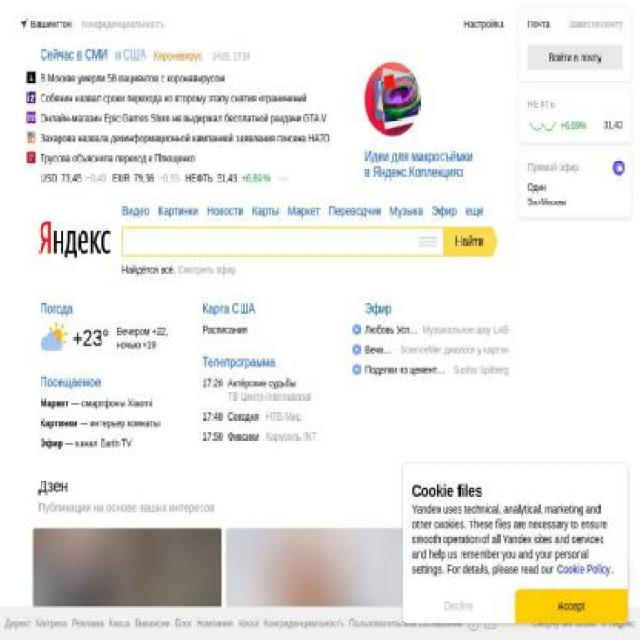button: (32, 196, 119, 281), (365, 62, 440, 140), (402, 589, 515, 623), (515, 589, 628, 623), (364, 148, 473, 180), (482, 482, 602, 511), (82, 6, 165, 42), (542, 556, 628, 590), (528, 45, 623, 70), (27, 152, 195, 166), (18, 6, 82, 42), (40, 323, 109, 354), (443, 227, 499, 258), (348, 616, 464, 630), (365, 364, 453, 378), (264, 616, 344, 630), (556, 560, 612, 578), (328, 203, 381, 219), (365, 324, 423, 338), (568, 18, 624, 30), (158, 203, 199, 219), (207, 203, 244, 219), (389, 203, 425, 219), (197, 616, 234, 630), (288, 203, 320, 219), (135, 616, 171, 630), (365, 344, 400, 358), (464, 18, 504, 30), (72, 616, 105, 630), (36, 616, 67, 630), (122, 203, 149, 219), (252, 203, 279, 219), (432, 203, 456, 219), (4, 616, 30, 630), (108, 616, 130, 630), (465, 203, 484, 219), (238, 616, 259, 630), (527, 18, 550, 30), (174, 616, 192, 630)
field: (122, 227, 443, 258)
